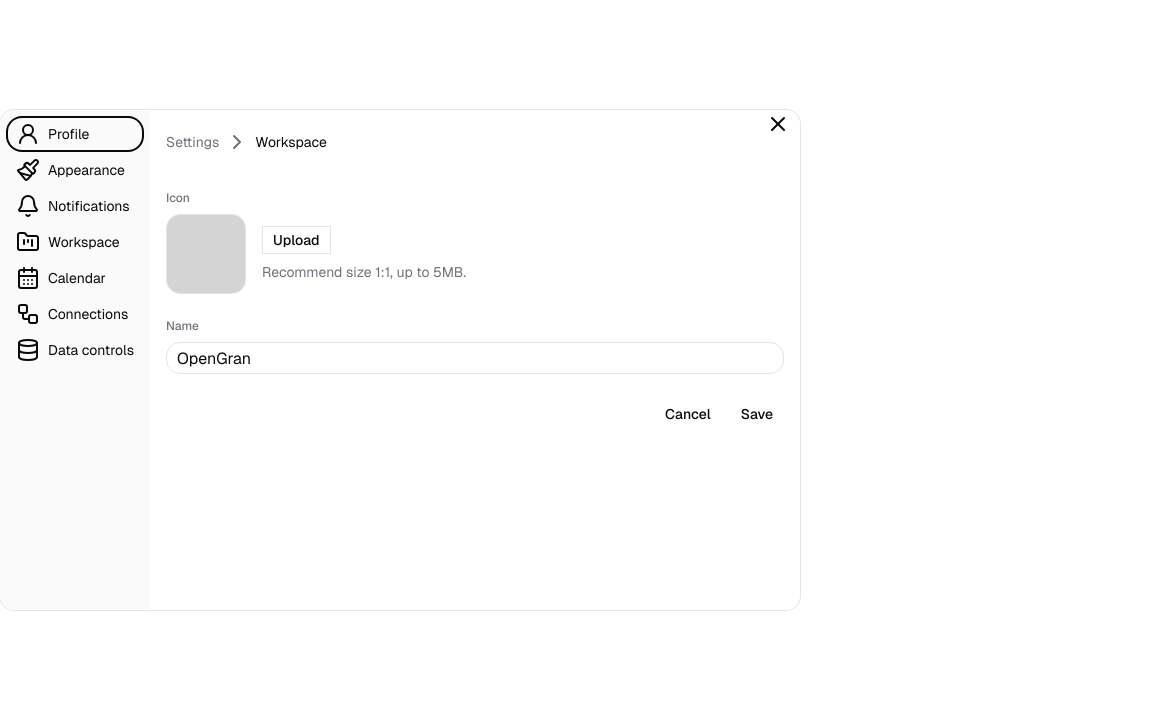
Test: settings dialog cancel actions › resets workspace edits and closes settings
expect the button "Cancel" is enabled: met, box [654,398,722,430]
Replace the text in the field labelled "Name" with "New workspace": (475, 358) [166,342,784,374]
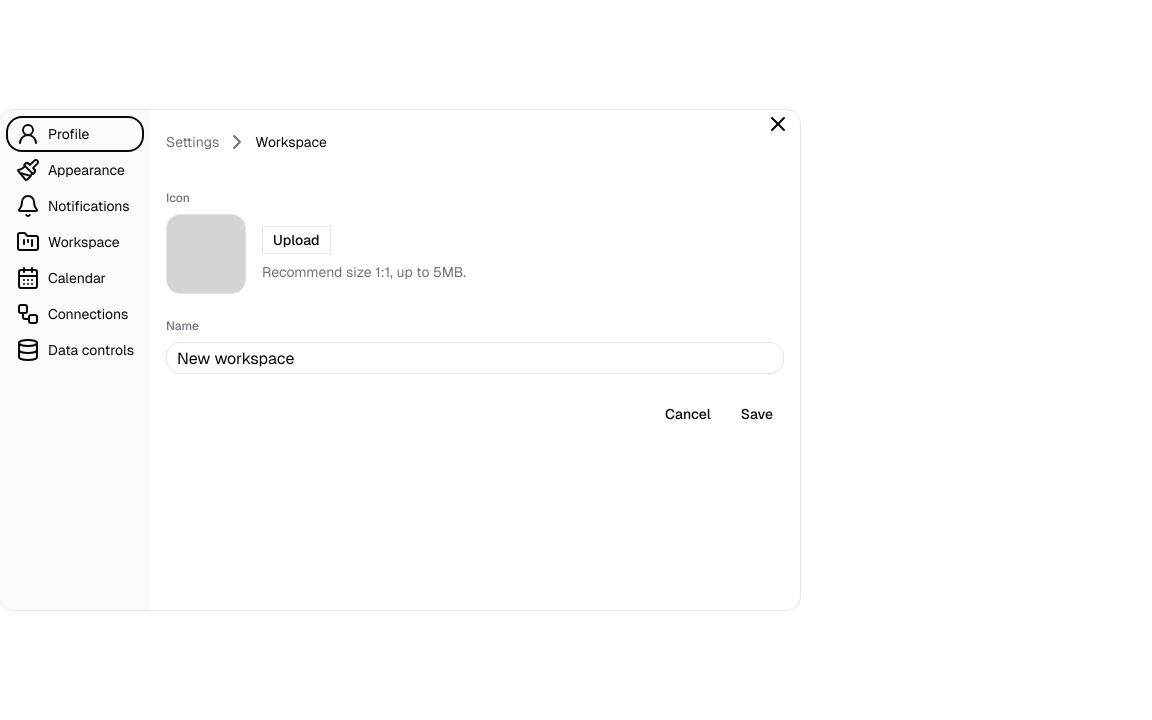
Click the button "Cancel": (688, 414) [654,398,722,430]
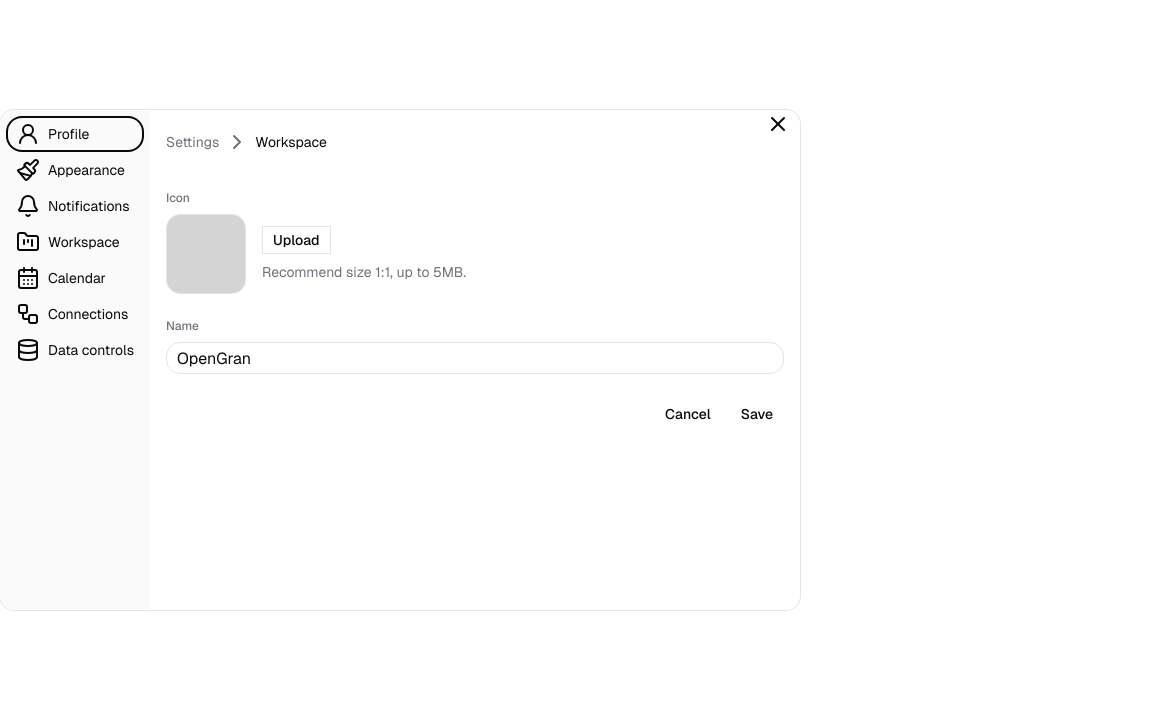
expect the field labelled "Name" holds "OpenGran": met, box [166,342,784,374]
